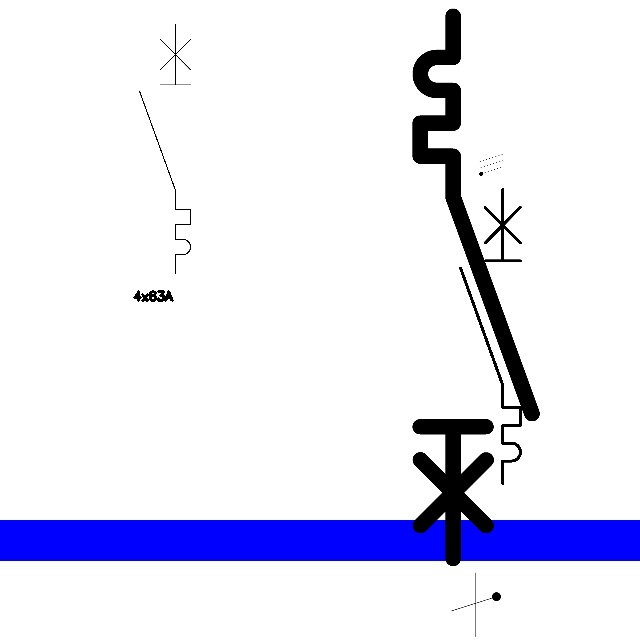interruptor_termomagnetico: (406, 2, 545, 572), (453, 181, 528, 490), (133, 18, 197, 280)
